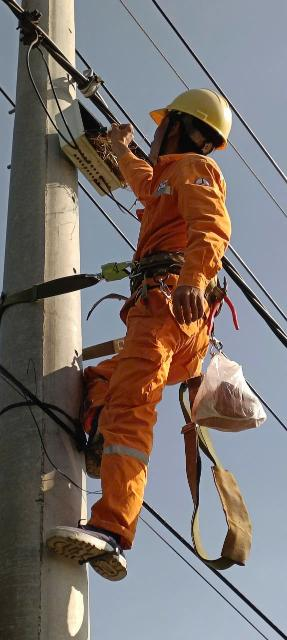harness: (112, 234, 246, 318)
helmet: (147, 78, 248, 145)
shoes: (48, 507, 141, 593), (68, 388, 126, 482)
